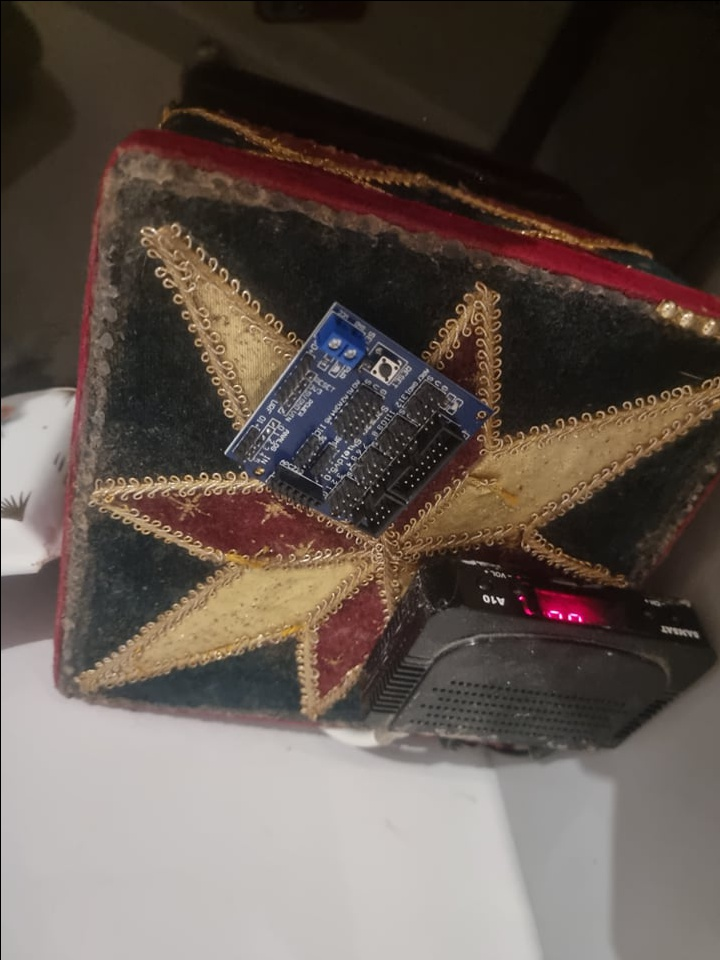5V EXPANSION: (223, 299, 492, 533)
